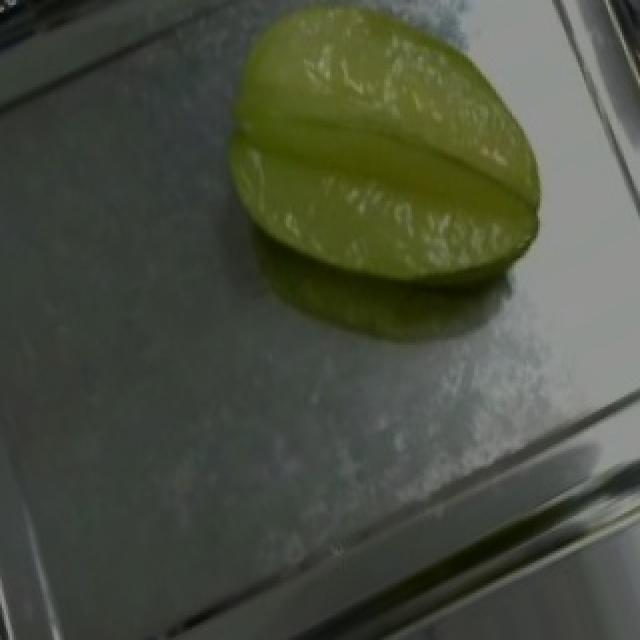fruit: (168, 0, 592, 347)
